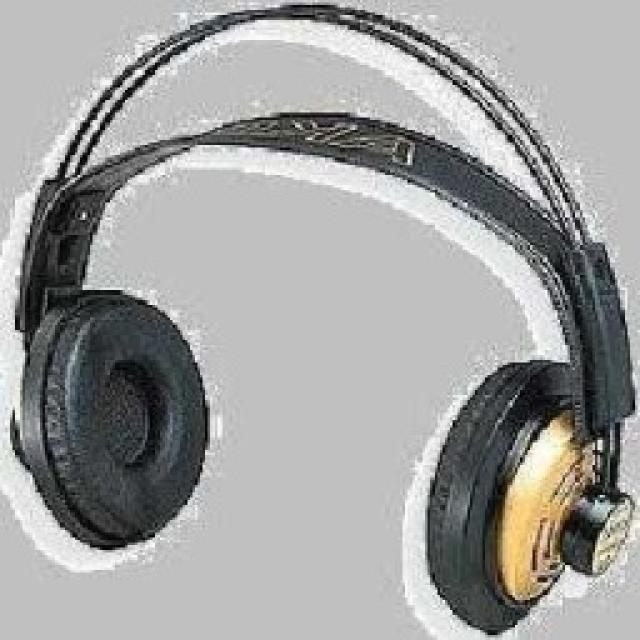kulaklik: (2, 0, 638, 640)
